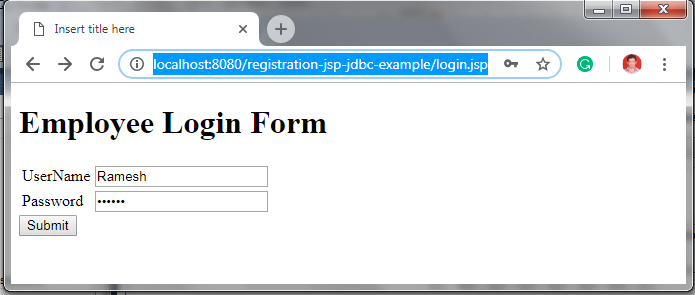button: (15, 213, 86, 238)
